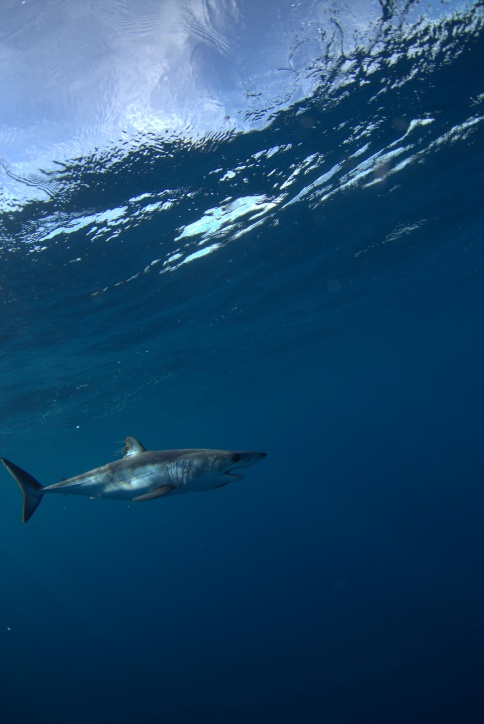Mako: (1, 430, 270, 521)
